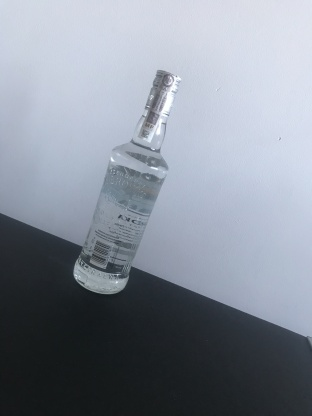nakretka: (143, 67, 182, 120)
